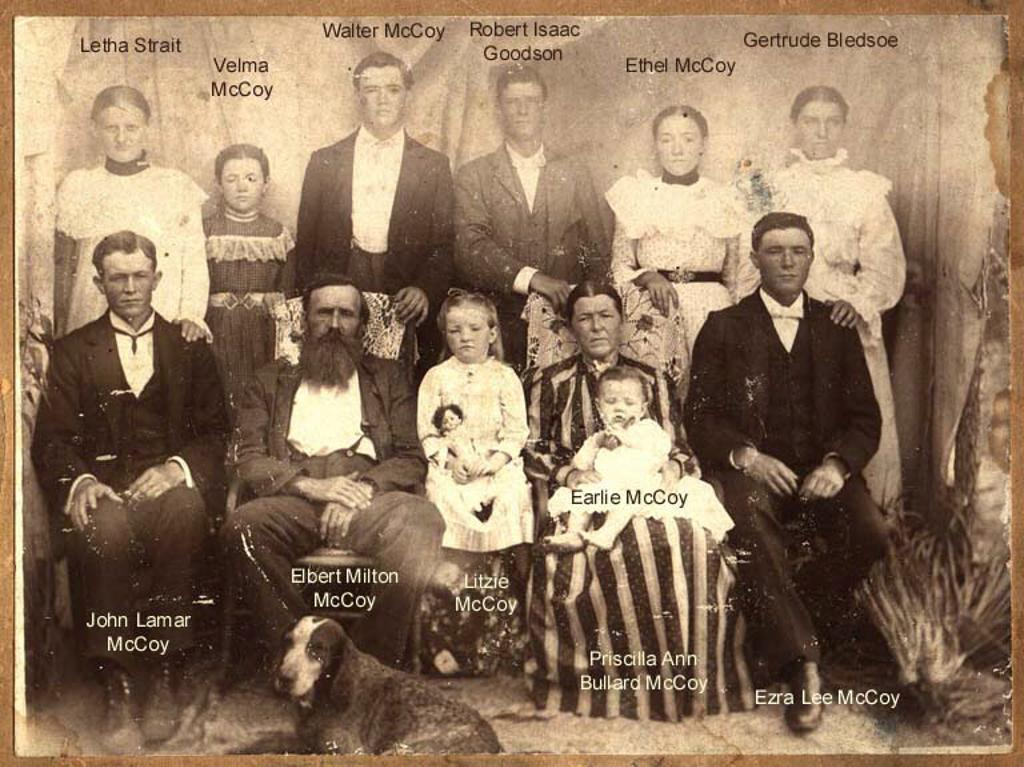face: (760, 237, 811, 293), (309, 296, 359, 351), (104, 260, 153, 316), (98, 114, 145, 162), (360, 74, 406, 123), (574, 306, 620, 354), (658, 126, 701, 176), (799, 108, 843, 156), (446, 313, 490, 360), (223, 166, 262, 211), (503, 90, 541, 136), (603, 387, 641, 427)
